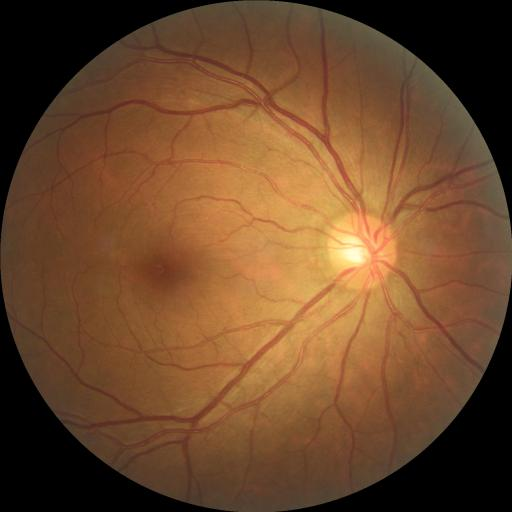Optic Cup: (343, 235, 379, 266)
Optic Disc: (328, 214, 397, 290)
